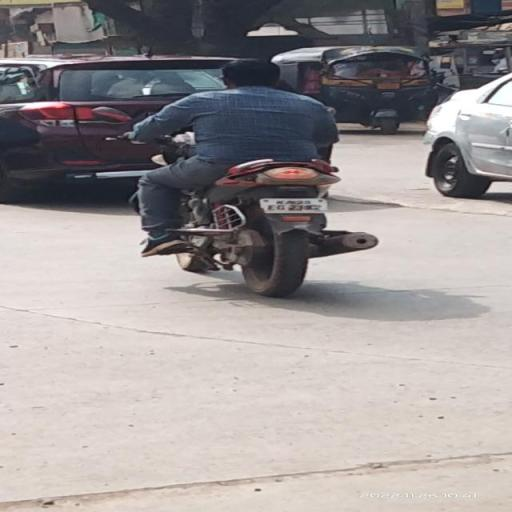bike: (113, 57, 382, 295)
numberplate: (258, 196, 325, 214)
withouthelmet: (222, 60, 280, 89)
